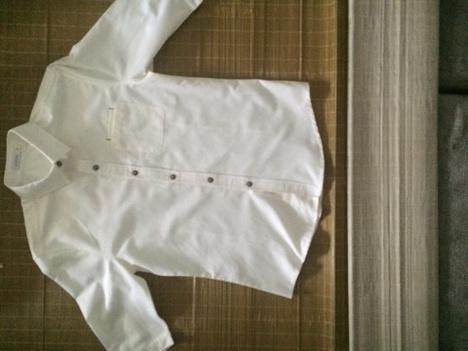S_shirt: (5, 1, 325, 351)
